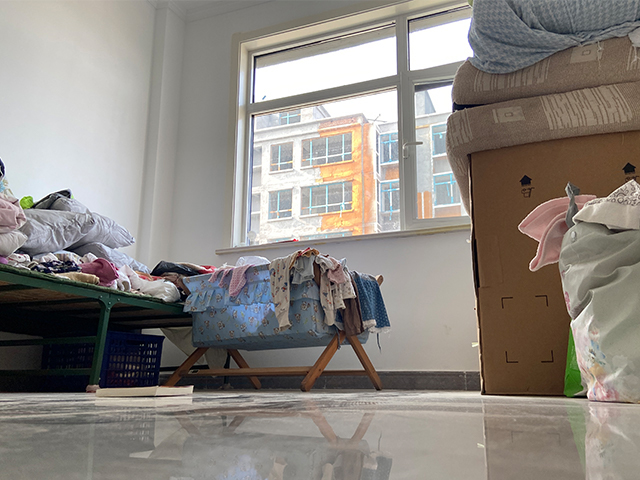bed: (1, 263, 186, 393)
book: (95, 384, 195, 397)
stool: (161, 246, 391, 394)
